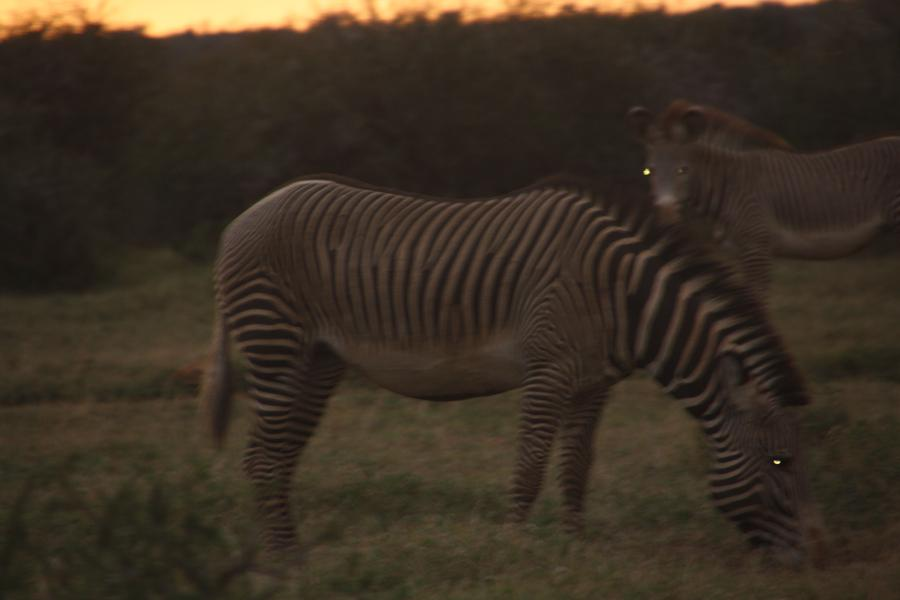zebra_grevys: (223, 167, 590, 395)
